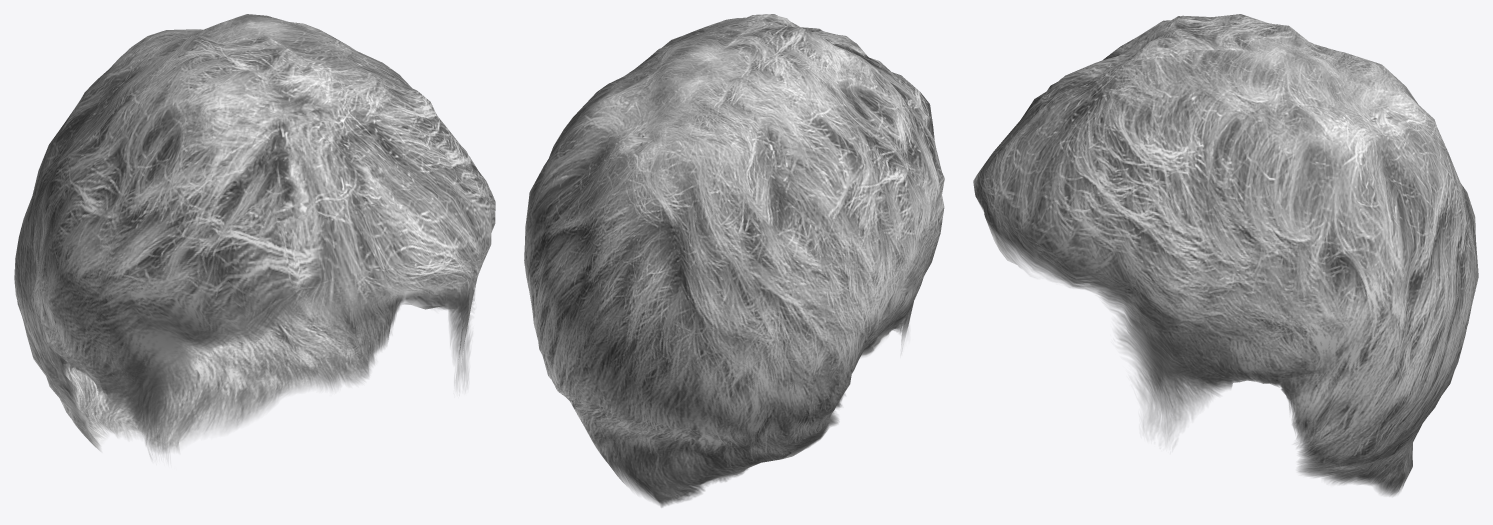
Rendered from hair_short02.gltf.
3 renders of one model, left to right at view 1: azimuth 30°, elevation 25°; view 2: azimuth 150°, elevation 25°; view 3: azimuth 270°, elevation 25°, orthographic. The views are drawn at different scales.
Visible parts, largest first — view 1: hair_short02; view 2: hair_short02; view 3: hair_short02.
Part boxes in pixels (left/top/right/bottom): hair_short02: left=14, top=14, right=495, bottom=458; hair_short02: left=524, top=14, right=944, bottom=507; hair_short02: left=973, top=14, right=1478, bottom=496.
Bounding box in the file's own units: 0.1714 × 0.1983 × 0.1989.
Materials: 1 (1 with a texture image).
